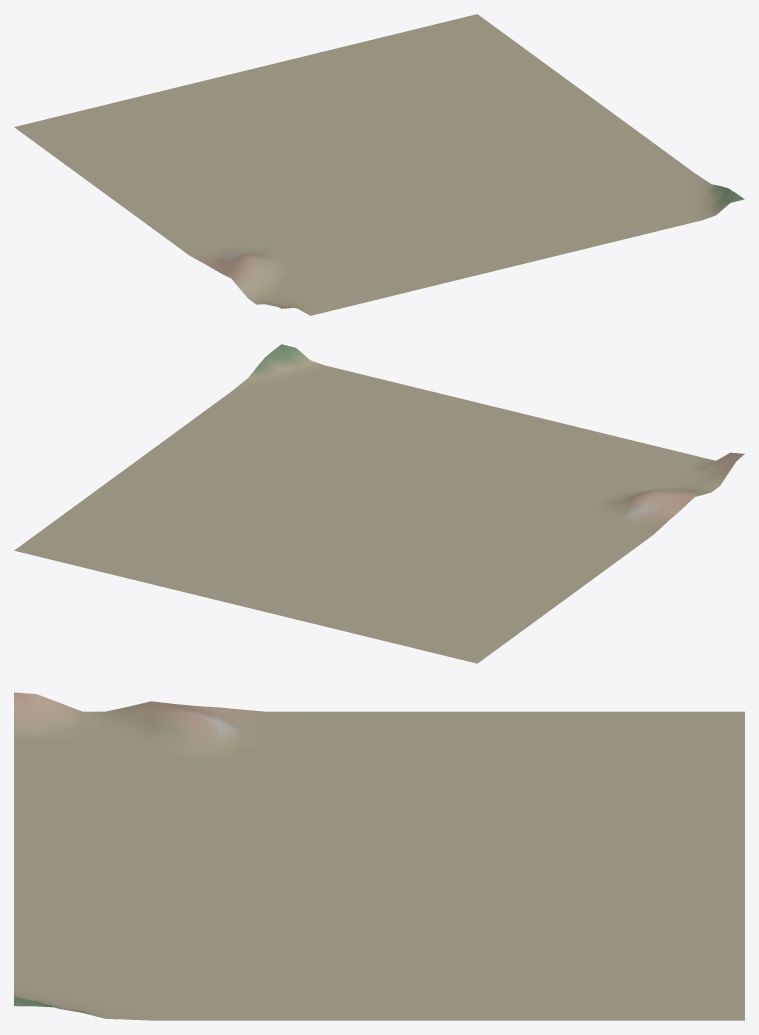
The picture shows the model from 3 angles, top to bottom: view 1: azimuth 30°, elevation 25°; view 2: azimuth 150°, elevation 25°; view 3: azimuth 270°, elevation 25°; orthographic projection. The views are drawn at different scales.
Parts seen in each view (by area): view 1: Terrain-col; view 2: Terrain-col; view 3: Terrain-col.
Part boxes in pixels (x1=…): Terrain-col: x1=14, y1=14, x2=744, y2=315; Terrain-col: x1=14, y1=344, x2=744, y2=663; Terrain-col: x1=14, y1=692, x2=744, y2=1020.
Size of the model in its own units: 256 by 7.52 by 256.
